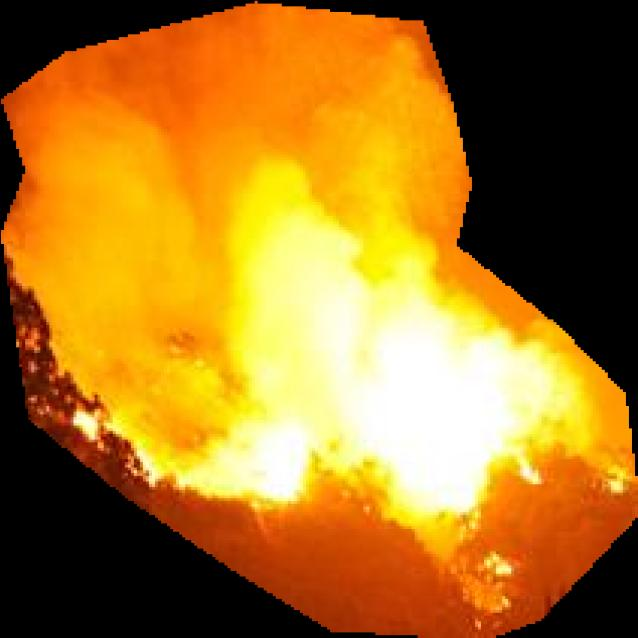fire: (1, 0, 638, 638)
